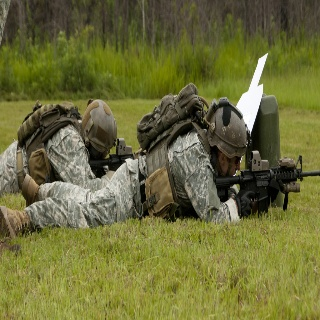rifle: (211, 155, 320, 217)
